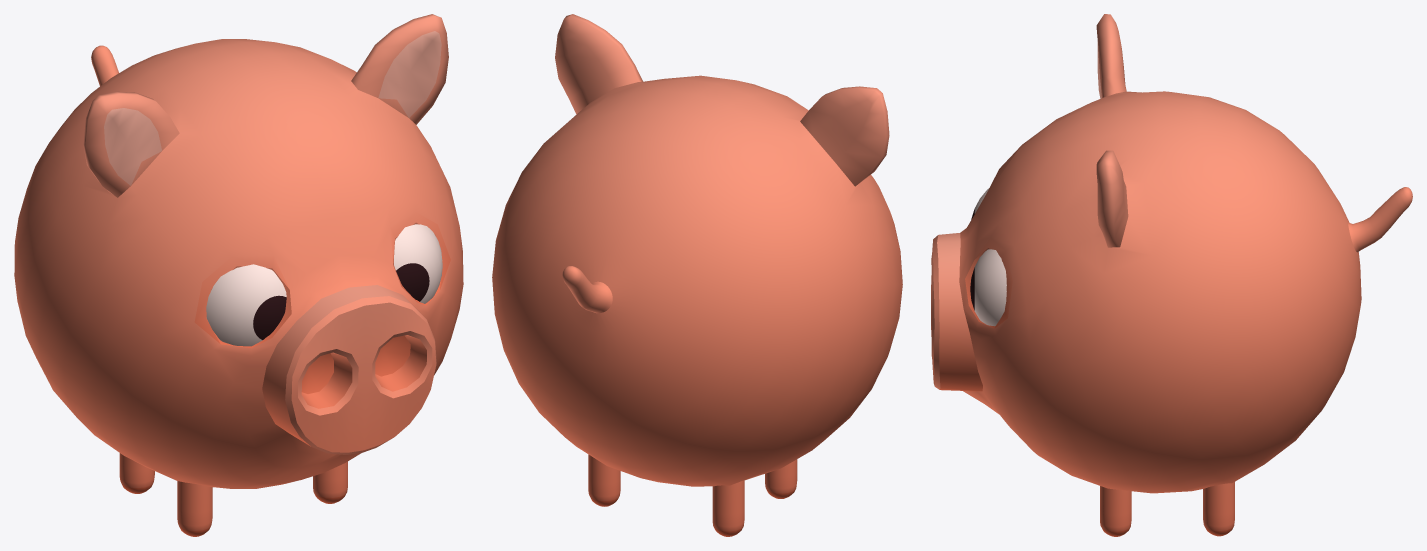
Rendered from Pig.fbx.
3 views of the same model, side by side, from view 1: azimuth 30°, elevation 25°; view 2: azimuth 150°, elevation 25°; view 3: azimuth 270°, elevation 25° (orthographic). The views are drawn at different scales.
Parts seen in each view (by area): view 1: PIG_LP; view 2: PIG_LP; view 3: PIG_LP.
Part boxes in pixels (<box>): PIG_LP: <box>14,14,463,536</box>; PIG_LP: <box>492,14,902,536</box>; PIG_LP: <box>931,14,1412,536</box>.
Size of the model in its own units: 199 by 228 by 237.
Materials: 1 (1 with a texture image).
